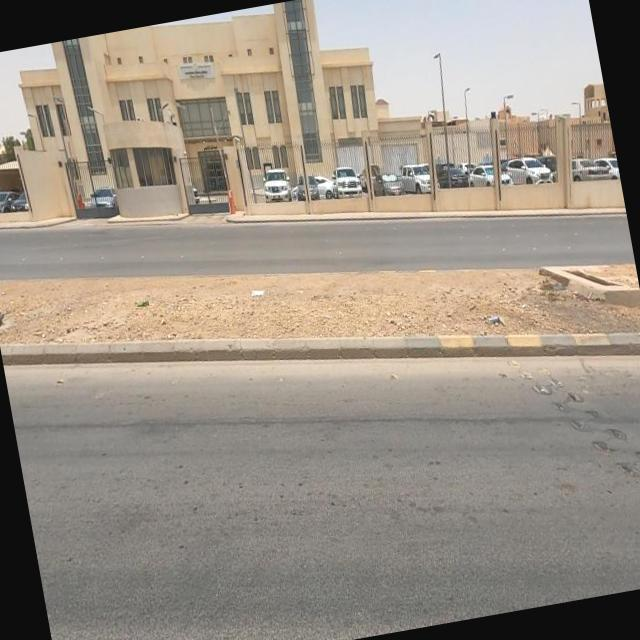debris: (212, 251, 293, 330), (105, 270, 178, 344), (464, 284, 530, 356)
